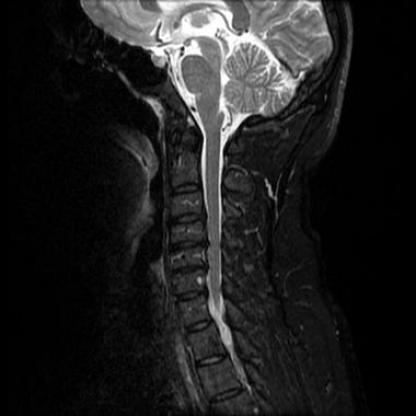Disc Protrusionrotation: (169, 211, 207, 228), (168, 262, 208, 277), (166, 239, 207, 253), (174, 287, 208, 303)
Osteophytesrotation: (169, 211, 207, 228), (168, 262, 208, 277), (166, 239, 207, 253), (174, 287, 208, 303)
